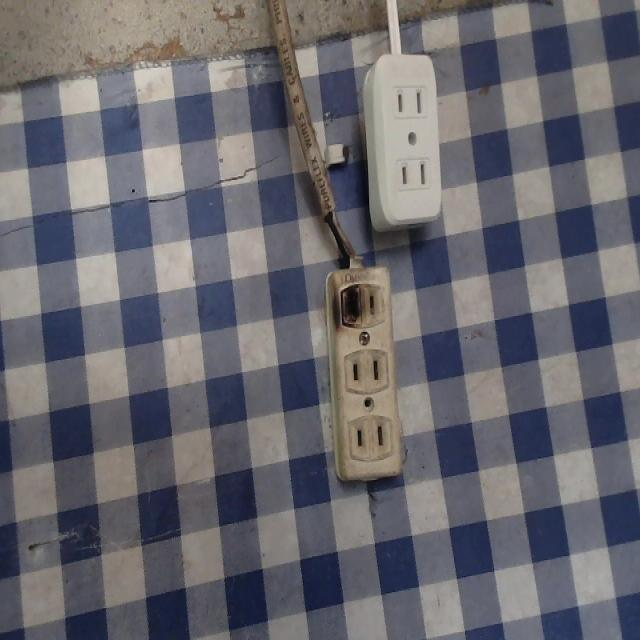-: (334, 277, 364, 332)
